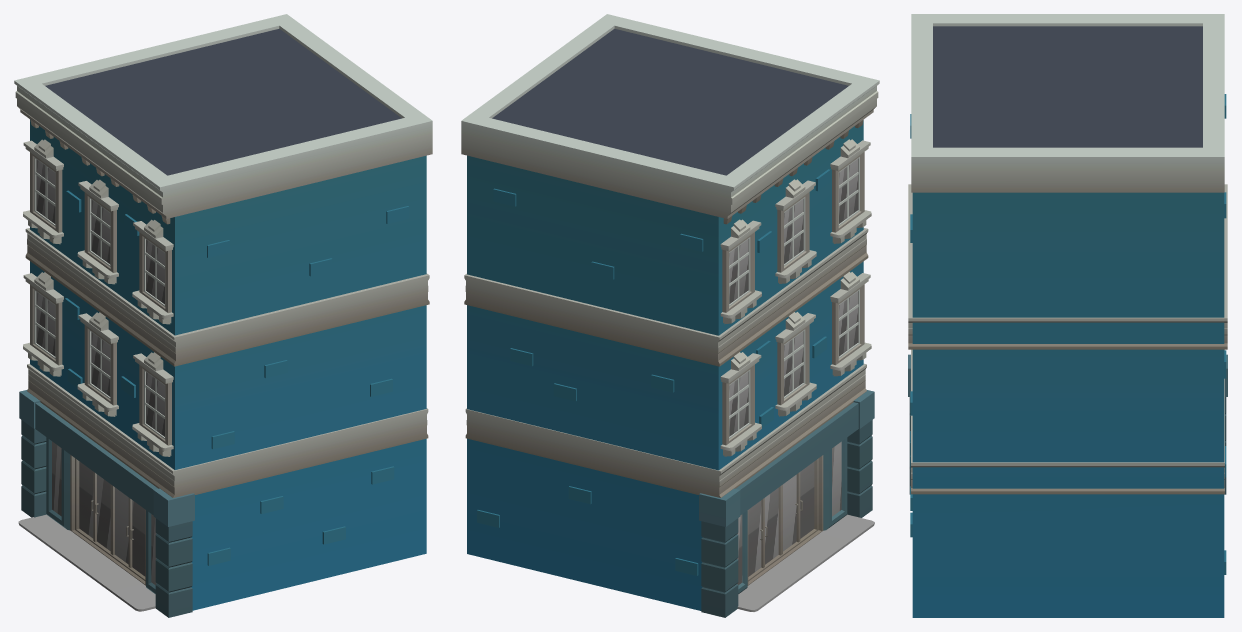
The model's file is Building_21_3_J.fbx.
3 renders of one model, left to right at view 1: azimuth 30°, elevation 25°; view 2: azimuth 150°, elevation 25°; view 3: azimuth 270°, elevation 25°, orthographic. The views are drawn at different scales.
Visible parts, largest first — view 1: Building_21_3_J; view 2: Building_21_3_J; view 3: Building_21_3_J.
Boxes of the visible parts, <box> form: Building_21_3_J: <box>14,14,432,617</box>; Building_21_3_J: <box>461,14,879,617</box>; Building_21_3_J: <box>908,14,1227,617</box>.
Size of the model in its own units: 779 by 1141 by 713.
